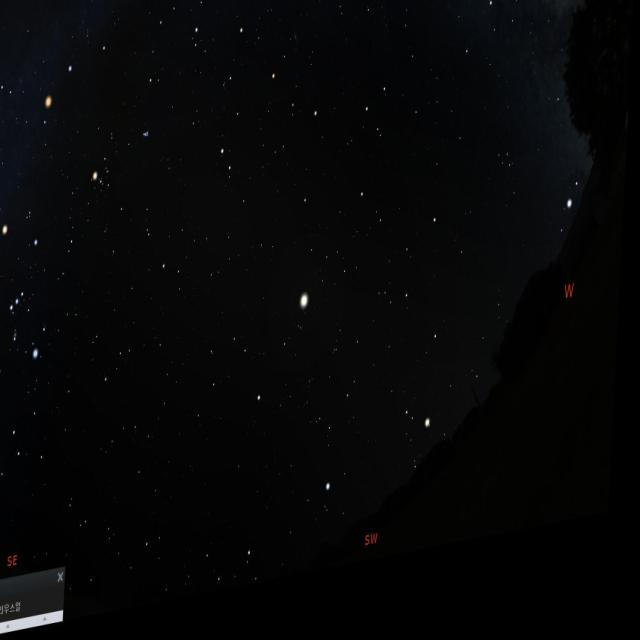cygnus: (471, 0, 591, 48)
orion: (0, 192, 57, 401)
pleiades: (141, 131, 154, 148)
taurus: (86, 116, 160, 254)
